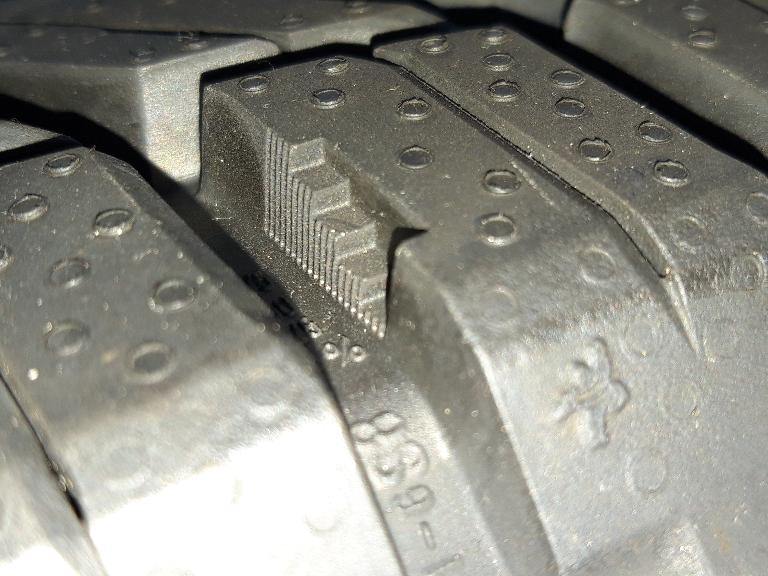temoin:100: (254, 112, 442, 352)
